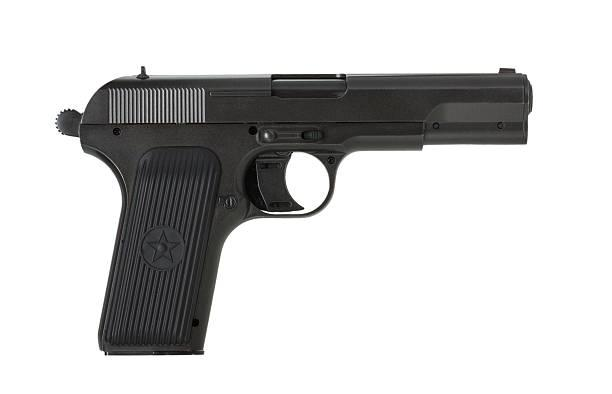weapon: (54, 64, 535, 358)
